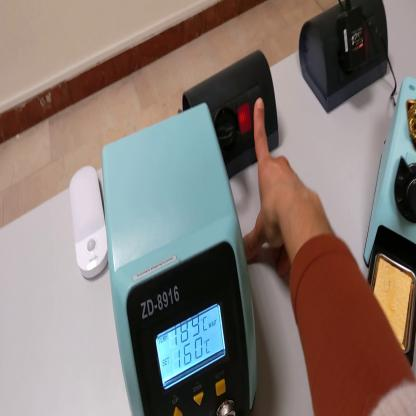hand: (244, 99, 316, 266)
socket: (182, 51, 279, 182), (299, 1, 393, 112)
welder base: (364, 77, 416, 368)
welder probe tip: (405, 175, 415, 219)
welder station: (100, 96, 259, 415)
